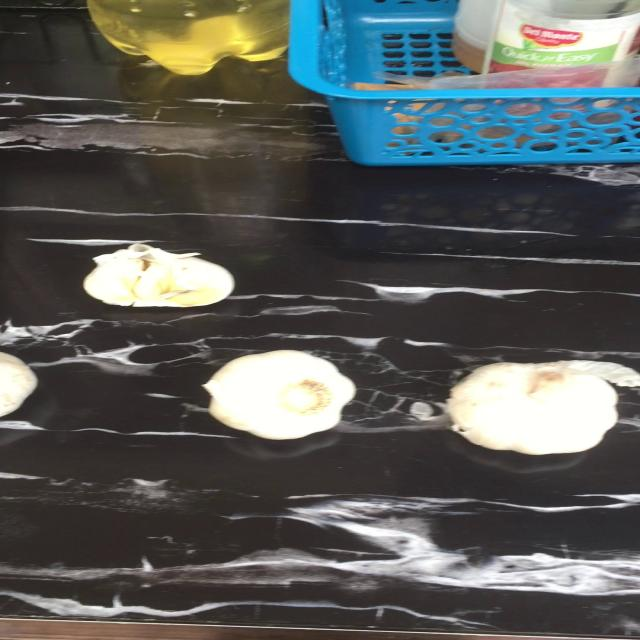garlic: (438, 354, 640, 458), (203, 348, 359, 440), (82, 241, 235, 310)
